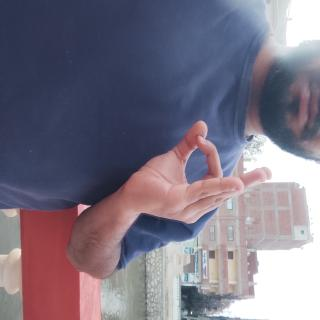Space: (90, 58, 170, 262)
